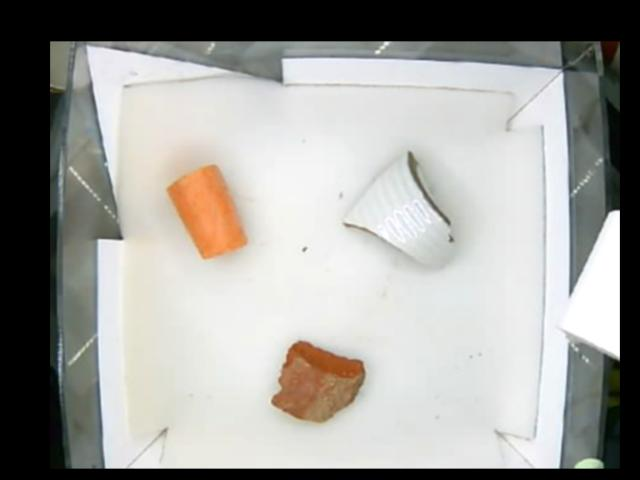Brisk: (269, 339, 367, 426)
Carrot: (164, 162, 247, 261)
China: (342, 150, 456, 270)
